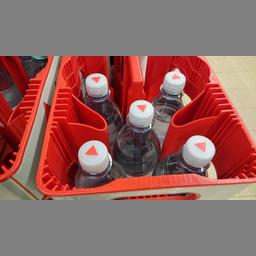water: (113, 100, 159, 172), (67, 134, 128, 183), (152, 130, 211, 175), (80, 70, 122, 132), (146, 66, 180, 132)
